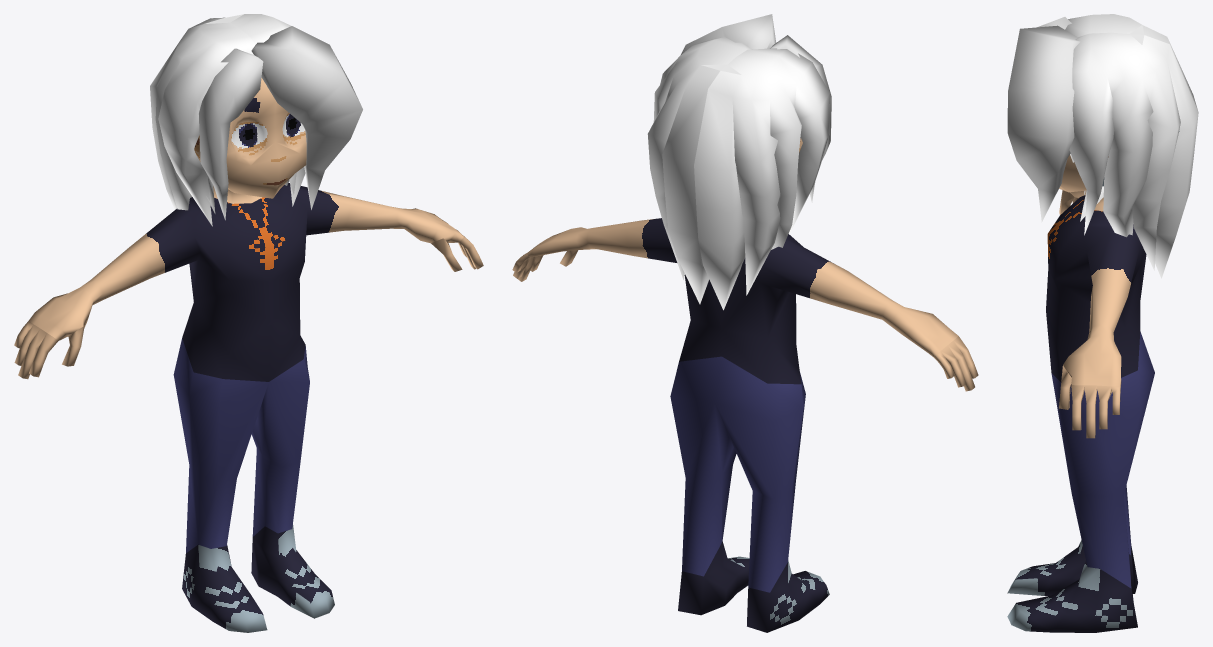
The model's file is basil.glb.
The picture shows the model from 3 angles, left to right: view 1: azimuth 30°, elevation 25°; view 2: azimuth 150°, elevation 25°; view 3: azimuth 270°, elevation 25°; orthographic projection. The views are drawn at different scales.
Visible parts, largest first — view 1: body, bangs, hair; view 2: body, hair, bangs; view 3: body, hair, bangs.
Boxes of the visible parts, x1,y1,x2,y2 form: body: (14,78,483,632); bangs: (199,26,362,220); hair: (150,14,305,226); body: (512,138,978,632); hair: (647,37,829,310); bangs: (681,14,831,202); body: (1007,131,1179,632); hair: (1065,14,1198,278); bangs: (1007,17,1080,222).
Size of the model in its own units: 3.23 by 3.83 by 1.14.
Materials: 3 (2 with a texture image).
